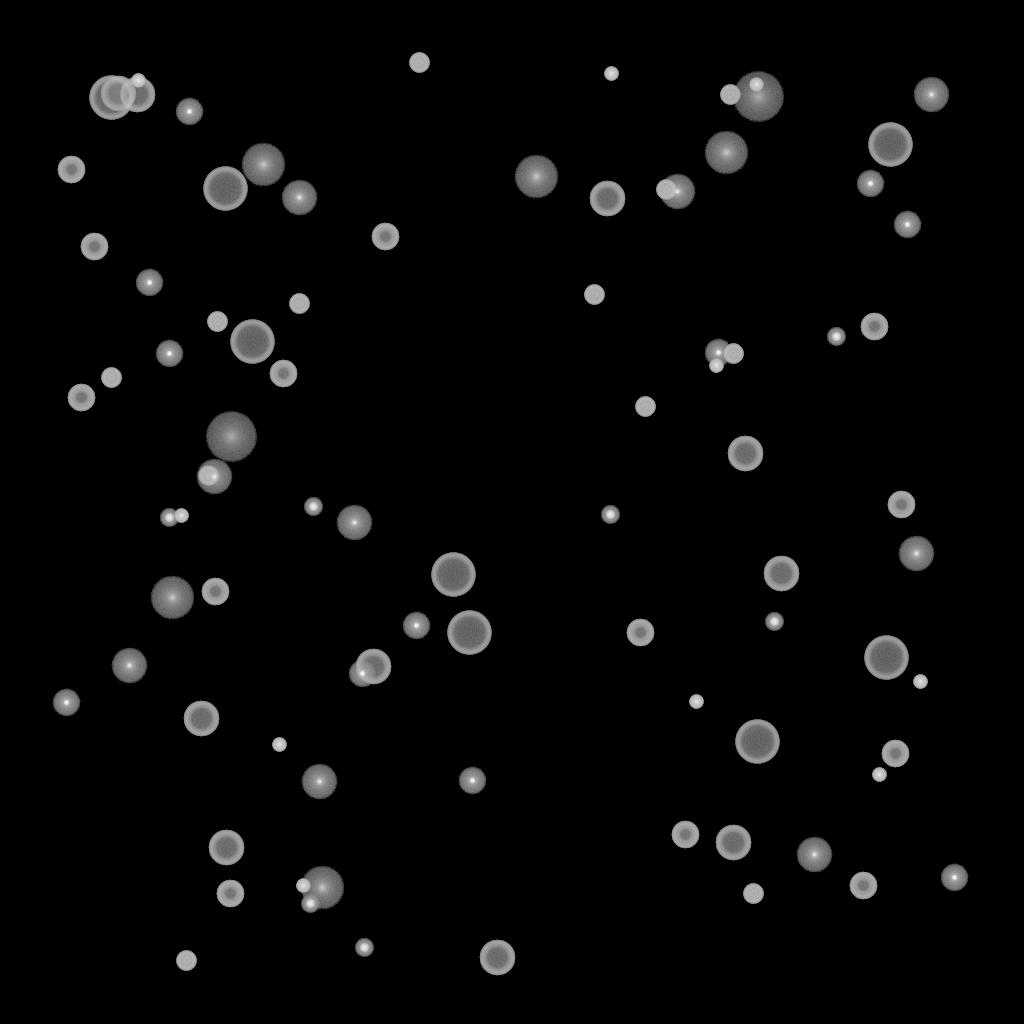depth:-10: (856, 170, 884, 198), (704, 339, 732, 367), (458, 767, 486, 795), (135, 269, 163, 297), (402, 612, 430, 640), (52, 689, 80, 717), (348, 660, 376, 688), (155, 340, 183, 368), (940, 864, 968, 892), (175, 98, 203, 126), (893, 211, 921, 239)
depth:-20: (601, 506, 619, 524), (827, 328, 845, 346), (304, 498, 322, 516), (355, 939, 373, 957), (765, 613, 783, 631), (301, 895, 319, 913), (160, 509, 178, 527)
depth:-30: (296, 879, 310, 893), (872, 768, 886, 782), (174, 509, 188, 523), (272, 738, 286, 752), (749, 78, 763, 92), (913, 675, 927, 689), (709, 359, 723, 373), (604, 67, 618, 81), (131, 74, 145, 88), (689, 695, 703, 709)
depth:-40: (743, 884, 763, 904), (723, 344, 743, 364), (635, 397, 655, 417), (656, 180, 676, 200), (176, 951, 196, 971), (409, 53, 429, 73), (720, 85, 740, 105), (101, 368, 121, 388), (584, 285, 604, 305), (207, 312, 227, 332), (289, 294, 309, 314), (198, 466, 218, 486)
depth:-50: (849, 872, 877, 900), (201, 578, 229, 606), (67, 384, 95, 412), (881, 740, 909, 768), (671, 821, 699, 849), (216, 880, 244, 908), (626, 619, 654, 647), (80, 233, 108, 261), (269, 360, 297, 388), (887, 491, 915, 519), (860, 313, 888, 341), (57, 156, 85, 184), (371, 223, 399, 251)
depth:-60: (119, 77, 155, 113), (727, 436, 763, 472), (763, 556, 799, 592), (715, 825, 751, 861), (355, 649, 391, 685), (100, 76, 136, 112), (589, 181, 625, 217), (479, 940, 515, 976), (208, 830, 244, 866), (183, 701, 219, 737)
depth:-70: (230, 320, 274, 364), (864, 636, 908, 680), (735, 720, 779, 764), (203, 167, 247, 211), (89, 76, 133, 120), (431, 553, 475, 597), (868, 123, 912, 167), (447, 611, 491, 655)
depth:0: (196, 459, 232, 495), (913, 77, 949, 113), (111, 648, 147, 684), (301, 764, 337, 800), (659, 174, 695, 210), (336, 505, 372, 541), (796, 837, 832, 873), (281, 180, 317, 216), (898, 536, 934, 572)
depth:10: (241, 143, 285, 187), (514, 155, 558, 199), (150, 576, 194, 620), (704, 131, 748, 175), (300, 866, 344, 910)
depth:20: (732, 72, 784, 122), (205, 412, 257, 462)
